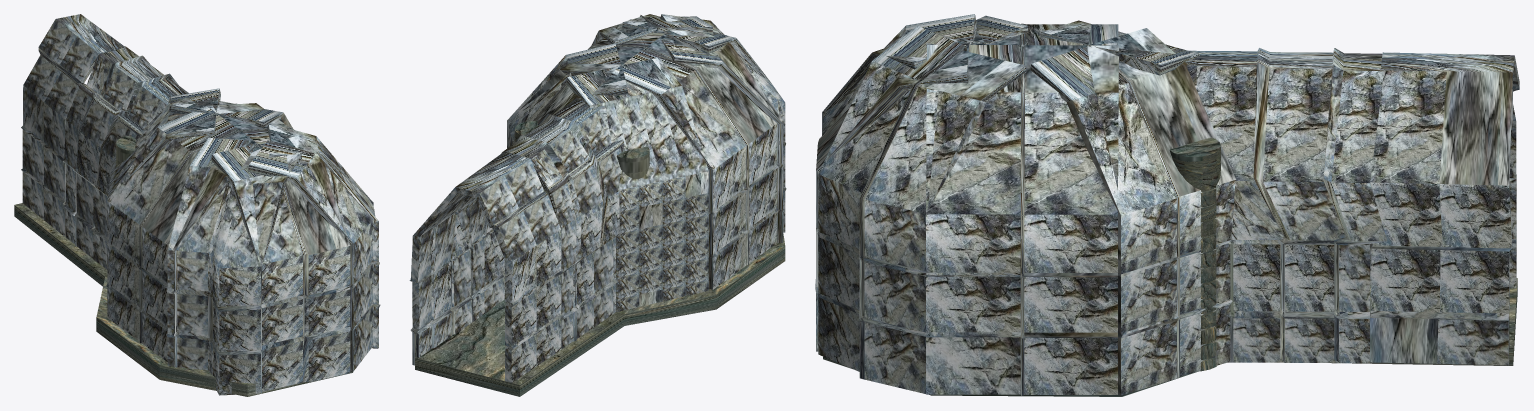
File: smallRoom.fbx
The picture shows the model from 3 angles, left to right: view 1: azimuth 30°, elevation 25°; view 2: azimuth 150°, elevation 25°; view 3: azimuth 270°, elevation 25°; orthographic projection. The views are drawn at different scales.
Parts seen in each view (by area): view 1: polySurface35, pCylinder2, pCylinder4; view 2: polySurface35, pCylinder2, pCylinder4; view 3: polySurface35, pCylinder5, pCylinder2.
Part boxes in pixels (x1,y1,x2,y2): polySurface35: (21,14,380,395); pCylinder2: (14,203,353,396); pCylinder4: (116,135,135,164); polySurface35: (409,14,786,382); pCylinder2: (415,234,785,396); pCylinder4: (616,146,649,179); polySurface35: (815,14,1519,395); pCylinder5: (1169,137,1220,371); pCylinder2: (823,278,1517,396).
Size of the model in its own units: 146 by 136 by 296.
2 materials, 2 textured.
